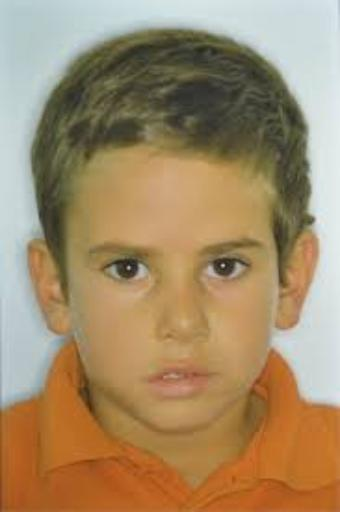left_eye: (199, 256, 254, 286)
left_lip_corner: (201, 365, 220, 384)
right_eye: (98, 258, 154, 287)
right_lip_corner: (140, 371, 162, 388)
